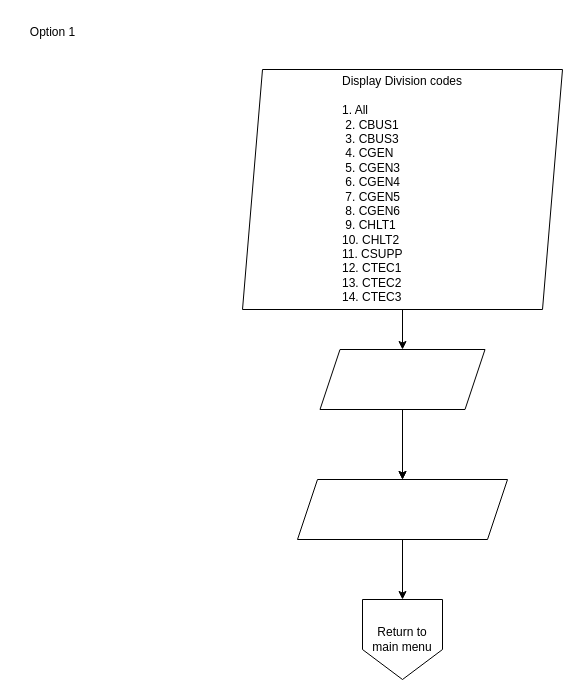
Image size: 580x697. Some labels were removed from this diagram. Each missing label, with the centre of its shape:
"Get div code(s) from user" belongs at (x=402, y=379).
"Write div code(s)'s data to its own Excel file" belongs at (x=402, y=509).
